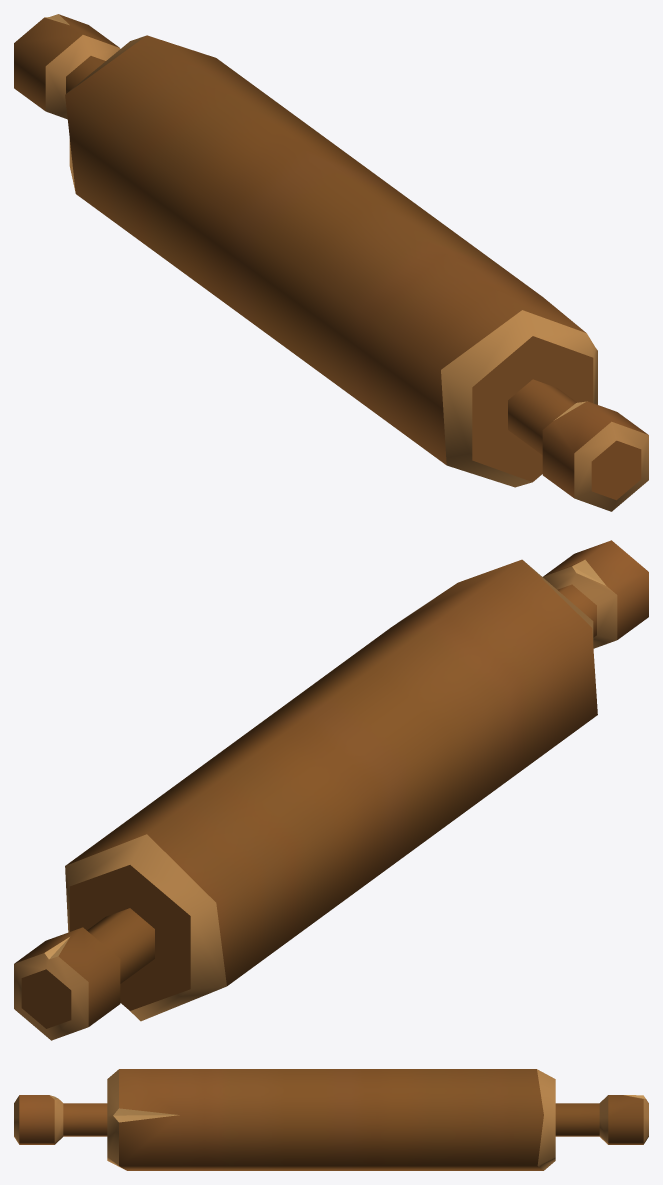
File: RollingPin_B.glb
3 views of the same model, one above another, from view 1: azimuth 30°, elevation 25°; view 2: azimuth 150°, elevation 25°; view 3: azimuth 270°, elevation 25° (orthographic). The views are drawn at different scales.
Parts seen in each view (by area): view 1: RollingPin_B; view 2: RollingPin_B; view 3: RollingPin_B.
Boxes of the visible parts, x1=… form: RollingPin_B: x1=14, y1=14, x2=648, y2=511; RollingPin_B: x1=14, y1=540, x2=648, y2=1040; RollingPin_B: x1=14, y1=1069, x2=648, y2=1170.
Bounding box in the file's own units: 0.0871 × 0.1005 × 0.5686.
1 material, 1 textured.
